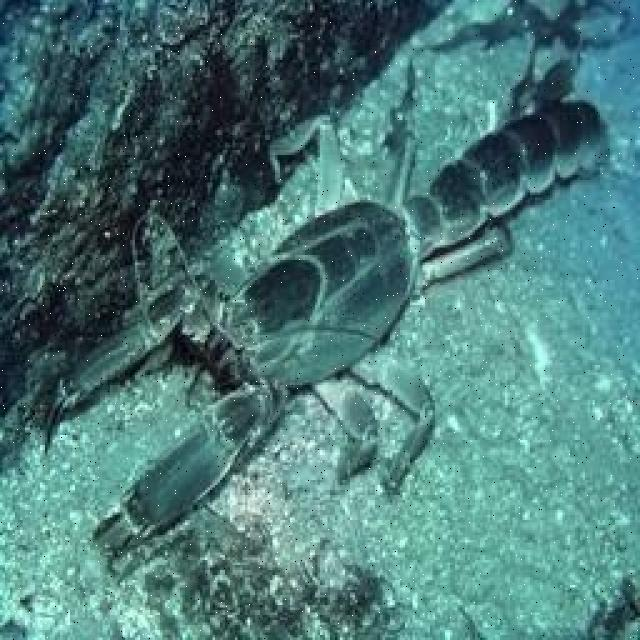reefs: (40, 95, 609, 563)
